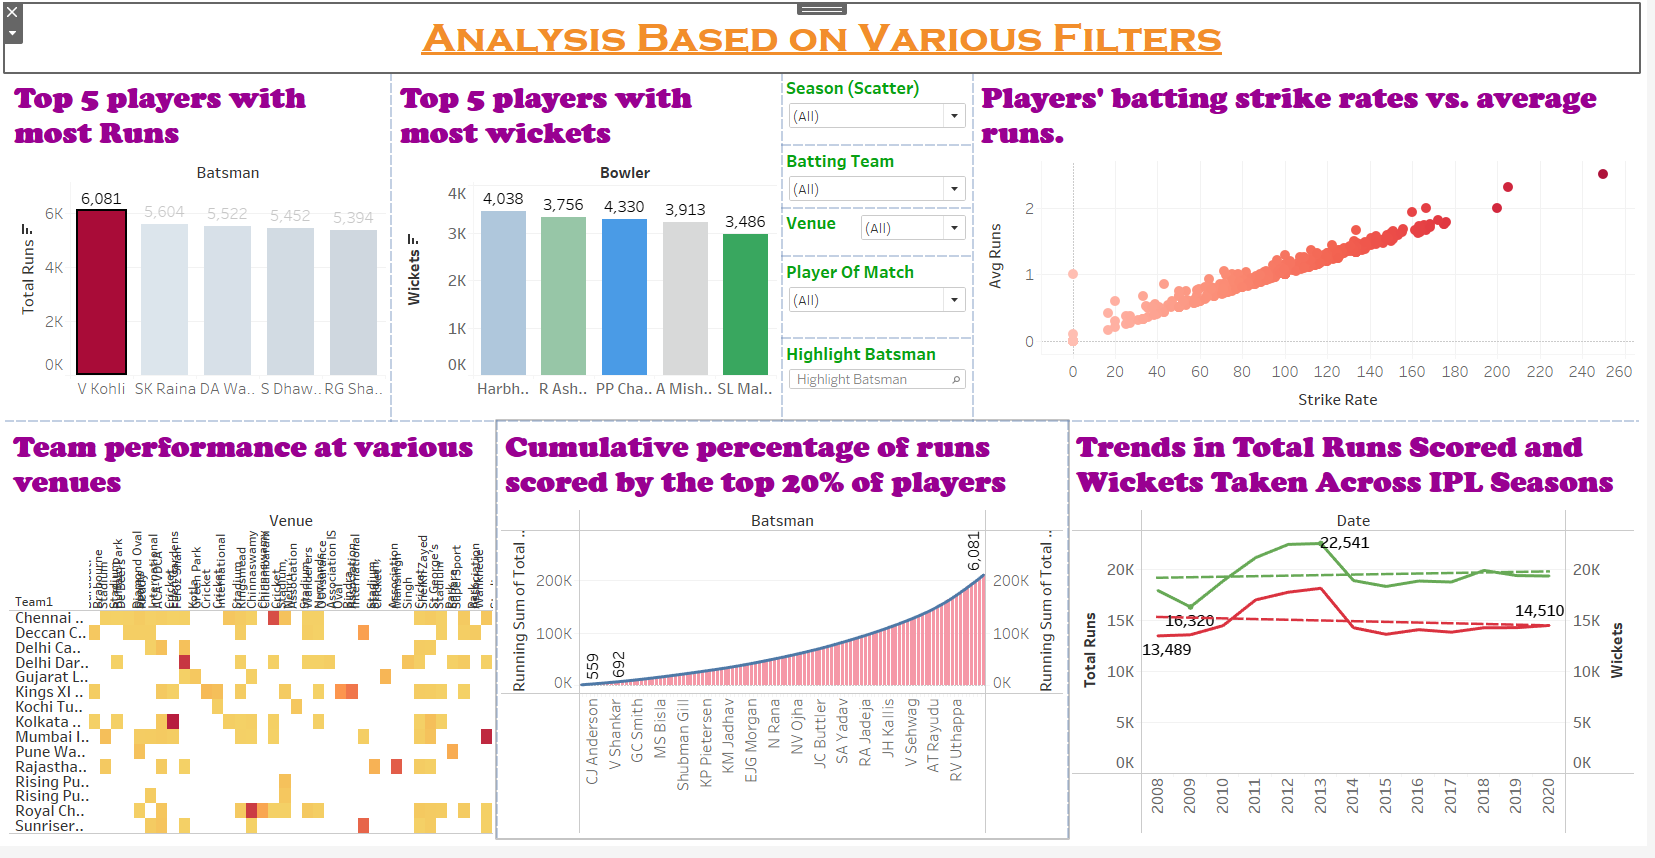

The page's visual inventory and layout, read from the dashboard file:
{"tool":"tableau","page":{"name":"Dashboard 1","canvas":[1650,850],"ordinal":0},"visuals":[{"type":"text","box":[8,8,1634,68.1]},{"type":"worksheet","title":"bar batsman","mark":"Automatic","rows":["total_runs"],"cols":["batsman"],"box":[8,76.1,385.9,348.9]},{"type":"worksheet","title":"bar bowler","mark":"Bar","rows":["Calculation_1452973852417110016"],"cols":["bowler"],"box":[393.9,76.1,391.5,348.9]},{"type":"filter","title":"ScatterPlot","param":"[federated.1mjnquc0kfwbf115bcp3o0kvzmwl].[yr:date:ok]","box":[785.4,76.1,190.6,72.9]},{"type":"worksheet","title":"ScatterPlot","mark":"Circle","rows":["Calculation_2345249528828690470"],"cols":["Calculation_2345249528828403749"],"box":[976,76.1,666,348.9]},{"type":"filter","title":"HeatMap","param":"[federated.1mjnquc0kfwbf115bcp3o0kvzmwl].[none:batting_team:nk]","box":[785.4,149,190.6,63]},{"type":"filter","title":"Line Chart","param":"[federated.1f38nue01x2mjz173d7uo1lkt3ph].[none:venue:nk]","box":[785.4,212,190.6,48]},{"type":"filter","title":"Line Chart","param":"[federated.1f38nue01x2mjz173d7uo1lkt3ph].[none:player_of_match:nk]","box":[785.4,260,190.6,82]},{"type":"highlighter","title":"bar batsman","param":"[federated.1f38nue01x2mjz173d7uo1lkt3ph].[none:batsman:nk]","box":[785.4,342,190.6,83]},{"type":"worksheet","title":"HeatMap","mark":"Square","rows":["team1"],"cols":["venue"],"box":[8,425,491.9,417]},{"type":"worksheet","title":"Pareto Chart","mark":"Bar","cols":["batsman"],"box":[499.9,425,571.1,417]},{"type":"worksheet","title":"Line Chart","mark":"Automatic","rows":["total_runs","Calculation_1452973852417110016"],"cols":["date"],"box":[1071,425,571,417]}]}

Visuals, with their boxes on the page's 1650x850 design canvas (x1, y1, x2, y2). These are canvas units, not pixel positions in the 1655x858 screenshot, which may show the page scaled, cropped or inside an application window:
text: pyautogui.locateOnScreen(8, 8, 1642, 76)
"bar batsman" worksheet: pyautogui.locateOnScreen(8, 76, 394, 425)
"bar bowler" worksheet (Bar marks): pyautogui.locateOnScreen(394, 76, 785, 425)
"ScatterPlot" filter: pyautogui.locateOnScreen(785, 76, 976, 149)
"ScatterPlot" worksheet (Circle marks): pyautogui.locateOnScreen(976, 76, 1642, 425)
"HeatMap" filter: pyautogui.locateOnScreen(785, 149, 976, 212)
"Line Chart" filter: pyautogui.locateOnScreen(785, 212, 976, 260)
"Line Chart" filter: pyautogui.locateOnScreen(785, 260, 976, 342)
"bar batsman" highlighter: pyautogui.locateOnScreen(785, 342, 976, 425)
"HeatMap" worksheet (Square marks): pyautogui.locateOnScreen(8, 425, 500, 842)
"Pareto Chart" worksheet (Bar marks): pyautogui.locateOnScreen(500, 425, 1071, 842)
"Line Chart" worksheet: pyautogui.locateOnScreen(1071, 425, 1642, 842)
